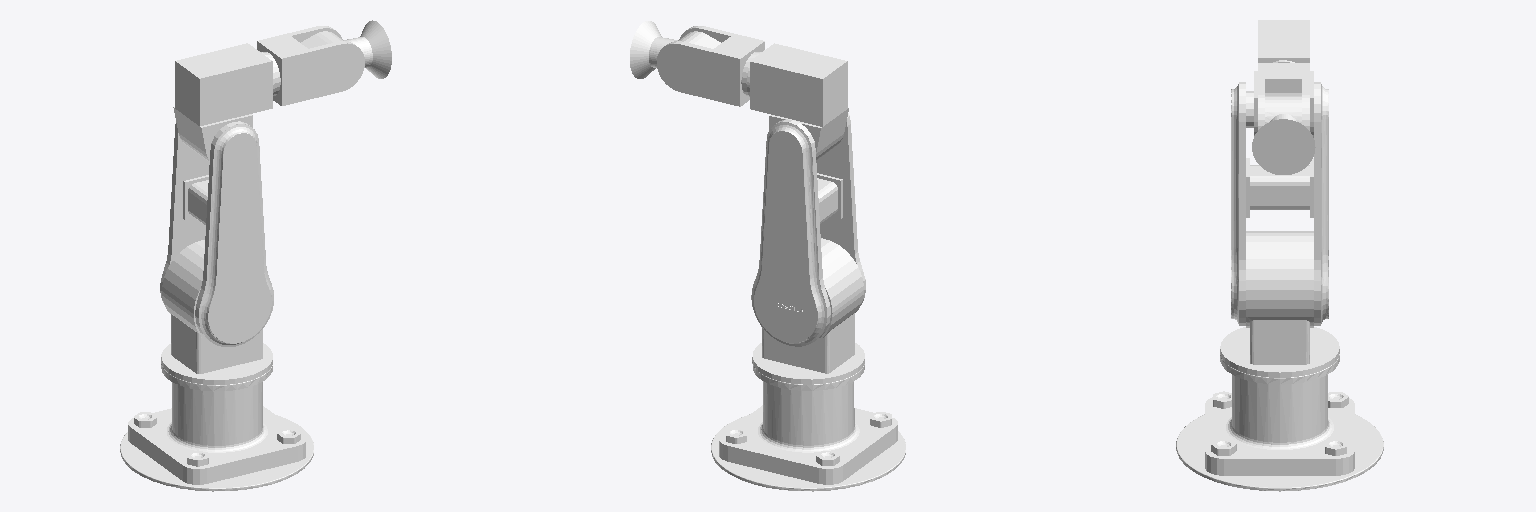
robot.urdf — armurdf2:
<?xml version="1.0" encoding="utf-8"?>
<!-- This URDF was automatically created by SolidWorks to URDF Exporter! Originally created by [author] ([email redacted]) 
     Commit Version: 1.6.0-4-g7f85cfe  Build Version: 1.6.7995.38578
     For more information, please see http://wiki.ros.org/sw_urdf_exporter -->
<robot
  name="armurdf2">
  <link
    name="base_link">
    <inertial>
      <origin
        xyz="5.5511E-17 5.5511E-17 0.07921"
        rpy="0 0 0" />
      <mass
        value="17.682" />
      <inertia
        ixx="0.3246"
        ixy="-2.9144E-17"
        ixz="-3.8784E-17"
        iyy="0.3246"
        iyz="1.5477E-17"
        izz="0.41606" />
    </inertial>
    <visual>
      <origin
        xyz="0 0 0"
        rpy="0 0 0" />
      <geometry>
        <mesh
          filename="package://armurdf2/meshes/base_link.STL" />
      </geometry>
      <material
        name="">
        <color
          rgba="1 1 1 0.35" />
      </material>
    </visual>
    <collision>
      <origin
        xyz="0 0 0"
        rpy="0 0 0" />
      <geometry>
        <mesh
          filename="package://armurdf2/meshes/base_link.STL" />
      </geometry>
    </collision>
  </link>
  <link
    name="link1">
    <inertial>
      <origin
        xyz="1.5626E-10 1.1102E-16 0.37308"
        rpy="0 0 0" />
      <mass
        value="15.531" />
      <inertia
        ixx="0.30108"
        ixy="-1.3459E-09"
        ixz="1.3573E-09"
        iyy="0.32963"
        iyz="-6.2809E-17"
        izz="0.11715" />
    </inertial>
    <visual>
      <origin
        xyz="0 0 0"
        rpy="0 0 0" />
      <geometry>
        <mesh
          filename="package://armurdf2/meshes/link1.STL" />
      </geometry>
      <material
        name="">
        <color
          rgba="1 1 1 0.35" />
      </material>
    </visual>
    <collision>
      <origin
        xyz="0 0 0"
        rpy="0 0 0" />
      <geometry>
        <mesh
          filename="package://armurdf2/meshes/link1.STL" />
      </geometry>
    </collision>
  </link>
  <joint
    name="joint1"
    type="revolute">
    <origin
      xyz="0 0 0"
      rpy="0 0 0" />
    <parent
      link="base_link" />
    <child
      link="link1" />
    <axis
      xyz="0 0 1" />
    <limit
      lower="-3.142"
      upper="3.142"
      effort="160"
      velocity="3" />
    <dynamics
      damping="0"
      friction="0" />
  </joint>
  <link
    name="link2">
    <inertial>
      <origin
        xyz="1.9654E-06 -0.1916 -2.3595E-05"
        rpy="0 0 0" />
      <mass
        value="16.54" />
      <inertia
        ixx="0.7651"
        ixy="-6.0324E-06"
        ixz="-4.0516E-06"
        iyy="0.1679"
        iyz="7.2448E-05"
        izz="0.66407" />
    </inertial>
    <visual>
      <origin
        xyz="0 0 0"
        rpy="0 0 0" />
      <geometry>
        <mesh
          filename="package://armurdf2/meshes/link2.STL" />
      </geometry>
      <material
        name="">
        <color
          rgba="1 1 1 0.35" />
      </material>
    </visual>
    <collision>
      <origin
        xyz="0 0 0"
        rpy="0 0 0" />
      <geometry>
        <mesh
          filename="package://armurdf2/meshes/link2.STL" />
      </geometry>
    </collision>
  </link>
  <joint
    name="joint2"
    type="revolute">
    <origin
      xyz="0 0 0.496"
      rpy="-1.5708 0 0" />
    <parent
      link="link1" />
    <child
      link="link2" />
    <axis
      xyz="0.0031451 0 1" />
    <limit
      lower="-1.57"
      upper="1.309"
      effort="120"
      velocity="3" />
    <dynamics
      damping="0"
      friction="0" />
  </joint>
  <link
    name="link3">
    <inertial>
      <origin
        xyz="0.097689 0.0027227 0.01"
        rpy="0 0 0" />
      <mass
        value="6.4849" />
      <inertia
        ixx="0.034525"
        ixy="-0.0016663"
        ixz="-1.717E-17"
        iyy="0.053729"
        iyz="-6.5698E-18"
        izz="0.063531" />
    </inertial>
    <visual>
      <origin
        xyz="0 0 0"
        rpy="0 0 0" />
      <geometry>
        <mesh
          filename="package://armurdf2/meshes/link3.STL" />
      </geometry>
      <material
        name="">
        <color
          rgba="1 1 1 0.35" />
      </material>
    </visual>
    <collision>
      <origin
        xyz="0 0 0"
        rpy="0 0 0" />
      <geometry>
        <mesh
          filename="package://armurdf2/meshes/link3.STL" />
      </geometry>
    </collision>
  </link>
  <joint
    name="joint3"
    type="revolute">
    <origin
      xyz="0 -0.5 0"
      rpy="0 0 -1.5708" />
    <parent
      link="link2" />
    <child
      link="link3" />
    <axis
      xyz="0 0 1" />
    <limit
      lower="-1.57"
      upper="1.0472"
      effort="40"
      velocity="2.2" />
    <dynamics
      damping="0"
      friction="0" />
  </joint>
  <link
    name="link4">
    <inertial>
      <origin
        xyz="-0.00069175 3.3555E-09 0.14368"
        rpy="0 0 0" />
      <mass
        value="7.0188" />
      <inertia
        ixx="0.067793"
        ixy="-1.9672E-09"
        ixz="0.00041641"
        iyy="0.066756"
        iyz="-4.05E-10"
        izz="0.020743" />
    </inertial>
    <visual>
      <origin
        xyz="0 0 0"
        rpy="0 0 0" />
      <geometry>
        <mesh
          filename="package://armurdf2/meshes/link4.STL" />
      </geometry>
      <material
        name="">
        <color
          rgba="1 1 1 0.35" />
      </material>
    </visual>
    <collision>
      <origin
        xyz="0 0 0"
        rpy="0 0 0" />
      <geometry>
        <mesh
          filename="package://armurdf2/meshes/link4.STL" />
      </geometry>
    </collision>
  </link>
  <joint
    name="joint4"
    type="revolute">
    <origin
      xyz="0.145 0.15744 0.01"
      rpy="-1.5708 0 0" />
    <parent
      link="link3" />
    <child
      link="link4" />
    <axis
      xyz="0 0 1" />
    <limit
      lower="-3.14"
      upper="3.14"
      effort="27"
      velocity="2.3" />
    <dynamics
      damping="0"
      friction="0" />
  </joint>
</robot>

--- What the picture shows (computed from the rendered views, not written in the file) ---
The picture shows the robot from 3 angles, left to right: view 1: azimuth 30°, elevation 25°; view 2: azimuth 150°, elevation 25°; view 3: azimuth 270°, elevation 25°; orthographic projection.
Robot: armurdf2 — 5 links, 4 joints (4 revolute); root link base_link; default pose: all joints at 0.
Links seen in each view (by area): view 1: link2, base_link, link3, link4, link1; view 2: link2, base_link, link3, link4, link1; view 3: base_link, link1, link2, link4, link3.
Link boxes in pixels (box(x1,y1,x2,y2)): link2: box(160, 121, 273, 347); base_link: box(120, 362, 313, 491); link3: box(173, 43, 272, 161); link4: box(257, 20, 391, 105); link1: box(161, 240, 272, 384); link2: box(751, 113, 865, 346); base_link: box(711, 362, 905, 491); link3: box(750, 43, 848, 159); link4: box(630, 21, 764, 106); link1: box(752, 238, 864, 384); base_link: box(1176, 354, 1383, 491); link1: box(1220, 231, 1339, 377); link2: box(1231, 82, 1328, 325); link4: box(1252, 60, 1315, 174); link3: box(1254, 20, 1313, 137).
Bounding box of the posed robot: 0.8139 × 0.555 × 1.22 m (x, y, z).
Meshes: 5 distinct files referenced, 5 mesh visuals loaded (5 binary STL).